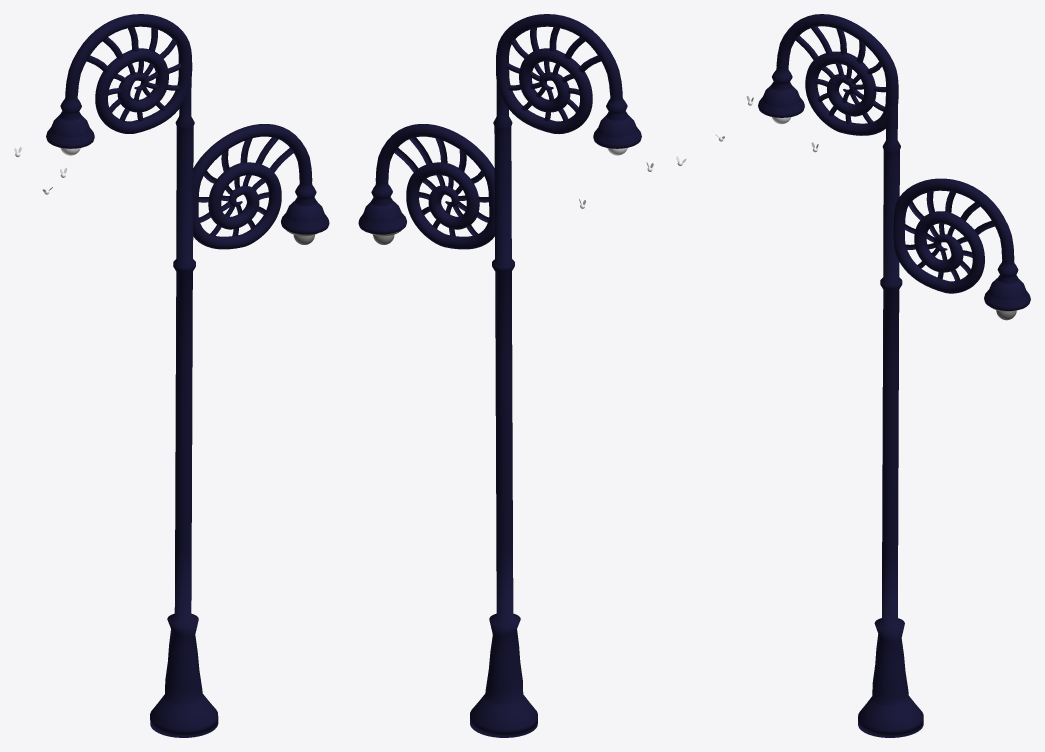
File: Lampara.obj
3 renders of one model, left to right at view 1: azimuth 30°, elevation 25°; view 2: azimuth 150°, elevation 25°; view 3: azimuth 330°, elevation 25°, orthographic. The views are drawn at different scales.
Parts seen in each view (by area): view 1: Lamp-post_Material; view 2: Lamp-post_Material; view 3: Lamp-post_Material.
Part boxes in pixels (x1,y1,x2,y2): Lamp-post_Material: [46, 14, 329, 737]; Lamp-post_Material: [358, 14, 641, 737]; Lamp-post_Material: [758, 14, 1030, 737].
Bounding box in the file's own units: 1.95 × 4.43 × 0.483.
